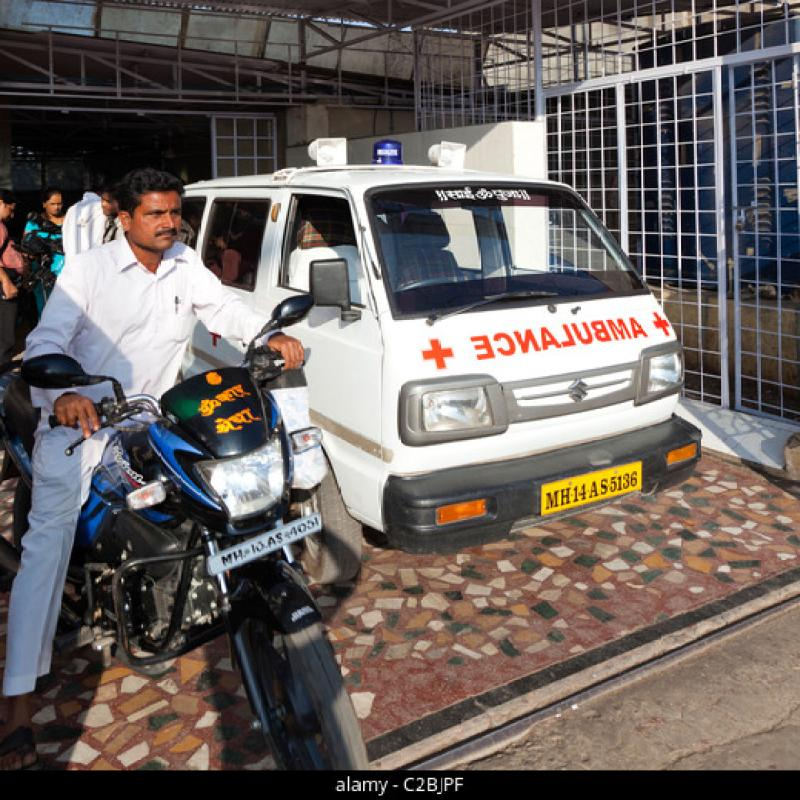ambulance: (242, 164, 763, 535)
